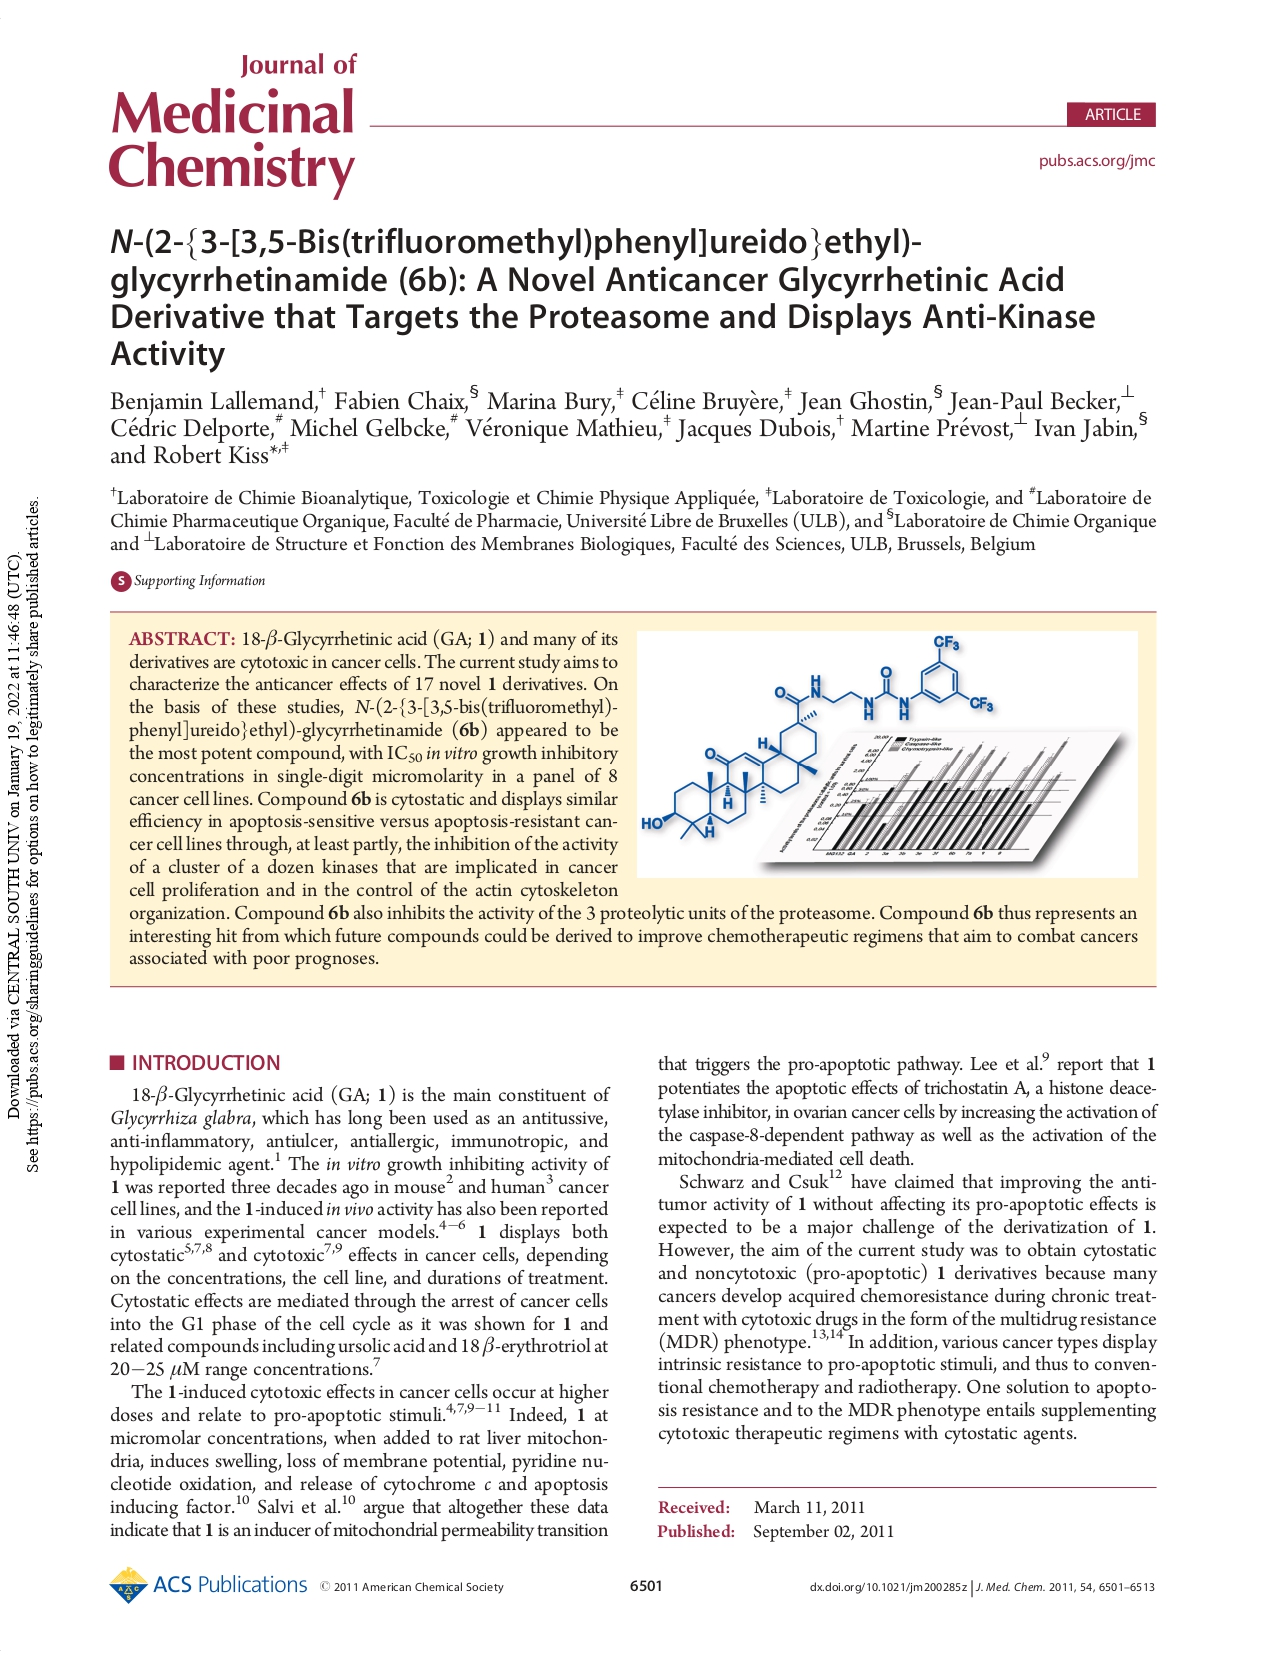exist_molecular: (640, 634, 993, 840)
